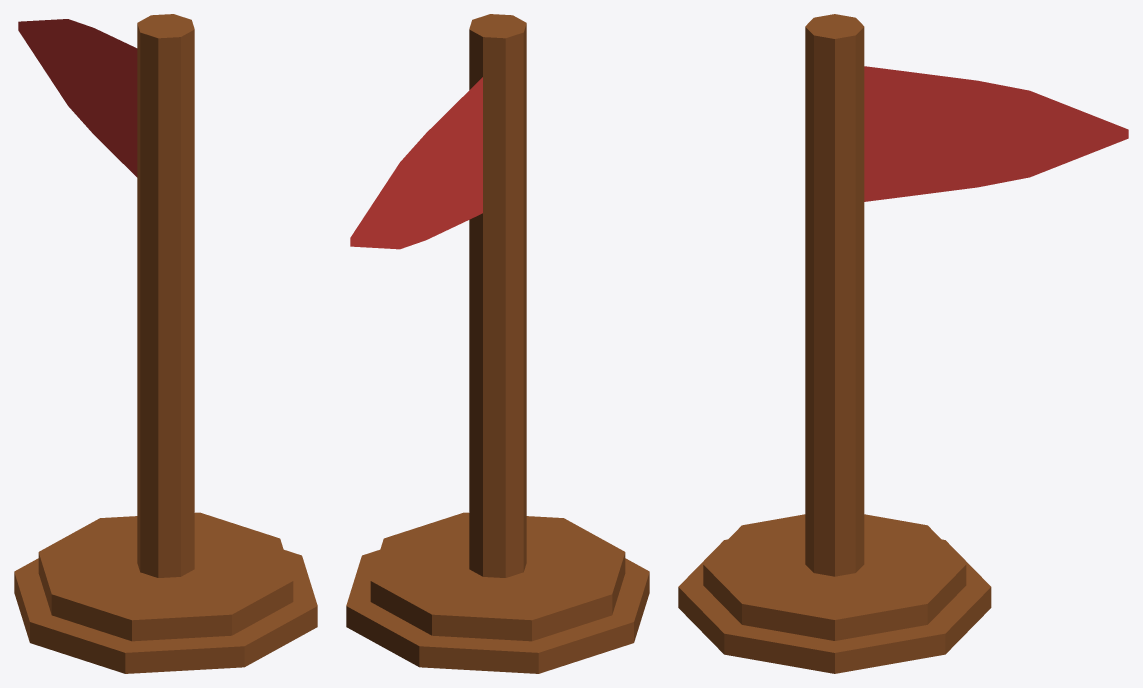
The model's file is Checkpoint_off.fbx.
3 renders of one model, left to right at view 1: azimuth 30°, elevation 25°; view 2: azimuth 150°, elevation 25°; view 3: azimuth 270°, elevation 25°, orthographic.
Parts seen in each view (by area): view 1: Checkpoint; view 2: Checkpoint; view 3: Checkpoint.
Part boxes in pixels (x1,y1,x2,y2): Checkpoint: (14, 14, 317, 673); Checkpoint: (346, 14, 649, 673); Checkpoint: (678, 14, 1128, 673).
Size of the model in its own units: 52.76 by 108 by 75.91.
